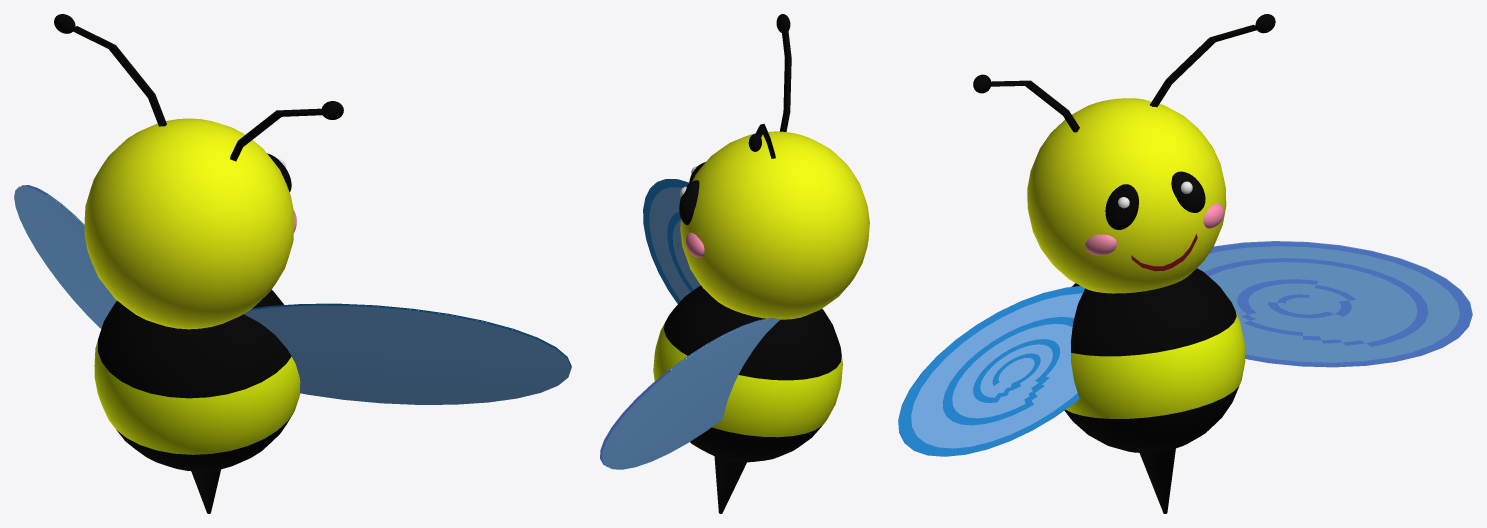
Rendered from bee1.glb.
3 renders of one model, left to right at view 1: azimuth 30°, elevation 25°; view 2: azimuth 150°, elevation 25°; view 3: azimuth 270°, elevation 25°, orthographic. The views are drawn at different scales.
Visible parts, largest first — view 1: Sphere.001, Sphere, Cylinder.001, Cylinder, Plane.004, Plane.001; view 2: Sphere.001, Sphere, Cylinder, Cylinder.001, Plane.001, Sphere.003, Plane.004, Sphere.007; view 3: Sphere.001, Sphere, Cylinder, Cylinder.001, Plane.004, Sphere.002, Plane.001, Sphere.003.
Boxes of the visible parts, x1,y1,x2,y2 form: Sphere.001: (84, 118, 294, 329); Sphere: (94, 290, 300, 513); Cylinder.001: (244, 303, 571, 404); Cylinder: (14, 185, 116, 328); Plane.004: (54, 14, 166, 126); Plane.001: (230, 101, 343, 161); Sphere.001: (680, 131, 869, 319); Sphere: (653, 285, 842, 513); Cylinder: (600, 318, 780, 469); Cylinder.001: (643, 179, 700, 303); Plane.001: (776, 14, 791, 131); Sphere.003: (679, 180, 699, 224); Plane.004: (748, 123, 775, 158); Sphere.007: (685, 232, 704, 257); Sphere.001: (1027, 98, 1226, 293); Sphere: (1064, 268, 1245, 513); Cylinder: (1197, 241, 1472, 367); Cylinder.001: (898, 286, 1084, 456); Plane.004: (1150, 14, 1275, 106); Sphere.002: (1105, 184, 1138, 229); Plane.001: (973, 74, 1079, 132); Sphere.003: (1171, 171, 1205, 212).
Bounding box in the file's own units: 161 × 209 × 239.
